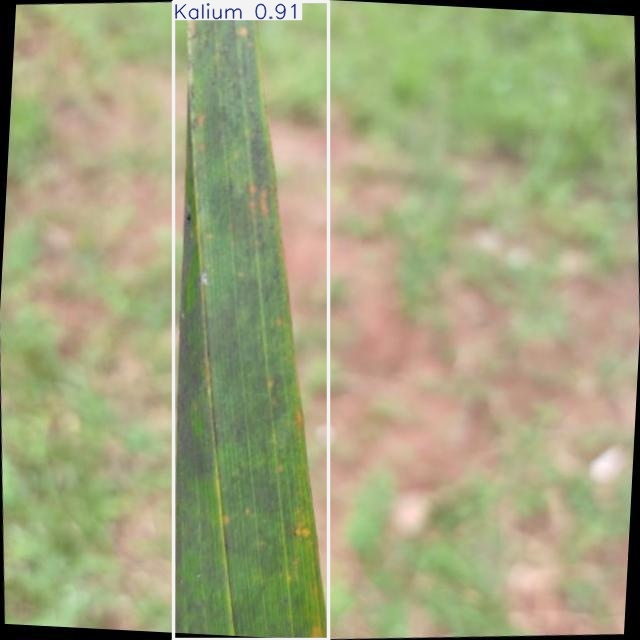Kalium: (174, 1, 328, 640)
